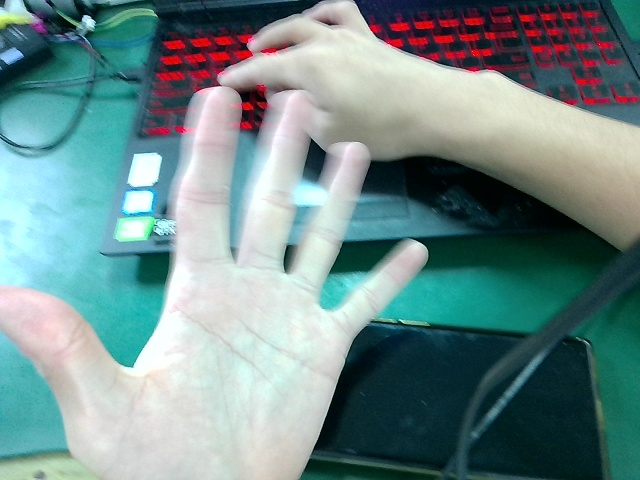paper: (1, 78, 449, 480)
